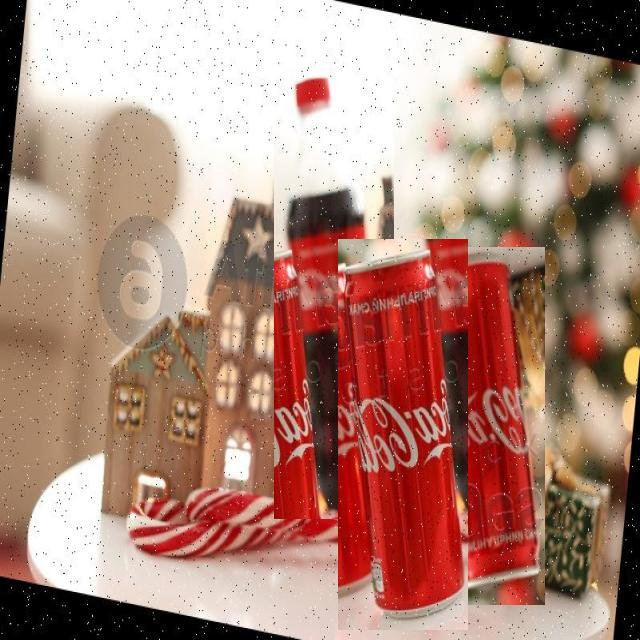coca-cola: (274, 62, 394, 519), (338, 239, 468, 630), (426, 248, 545, 606)
